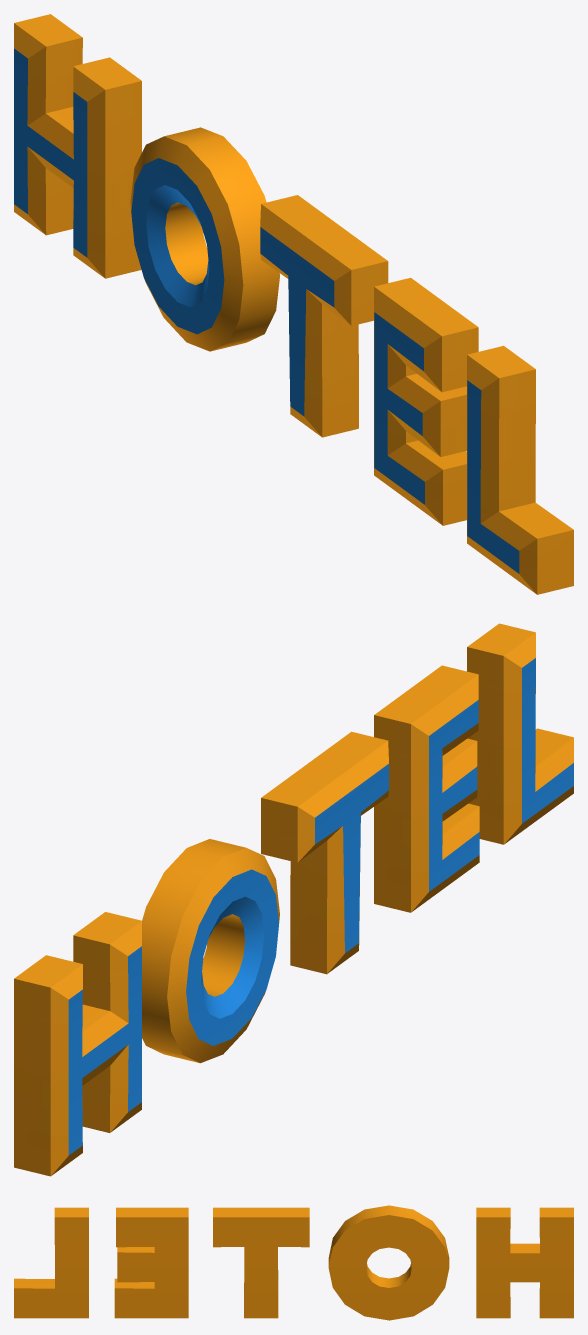
File: HotelSign_4_A.fbx
3 renders of one model, top to bottom at view 1: azimuth 30°, elevation 25°; view 2: azimuth 150°, elevation 25°; view 3: azimuth 270°, elevation 25°, orthographic. The views are drawn at different scales.
Visible parts, largest first — view 1: HotelSign_4_A; view 2: HotelSign_4_A; view 3: HotelSign_4_A.
Part boxes in pixels (left/top/right/bottom): HotelSign_4_A: left=14, top=14, right=573, bottom=594; HotelSign_4_A: left=14, top=623, right=573, bottom=1176; HotelSign_4_A: left=14, top=1205, right=573, bottom=1320.
Bounding box in the file's own units: 50.21 × 207 × 995.
